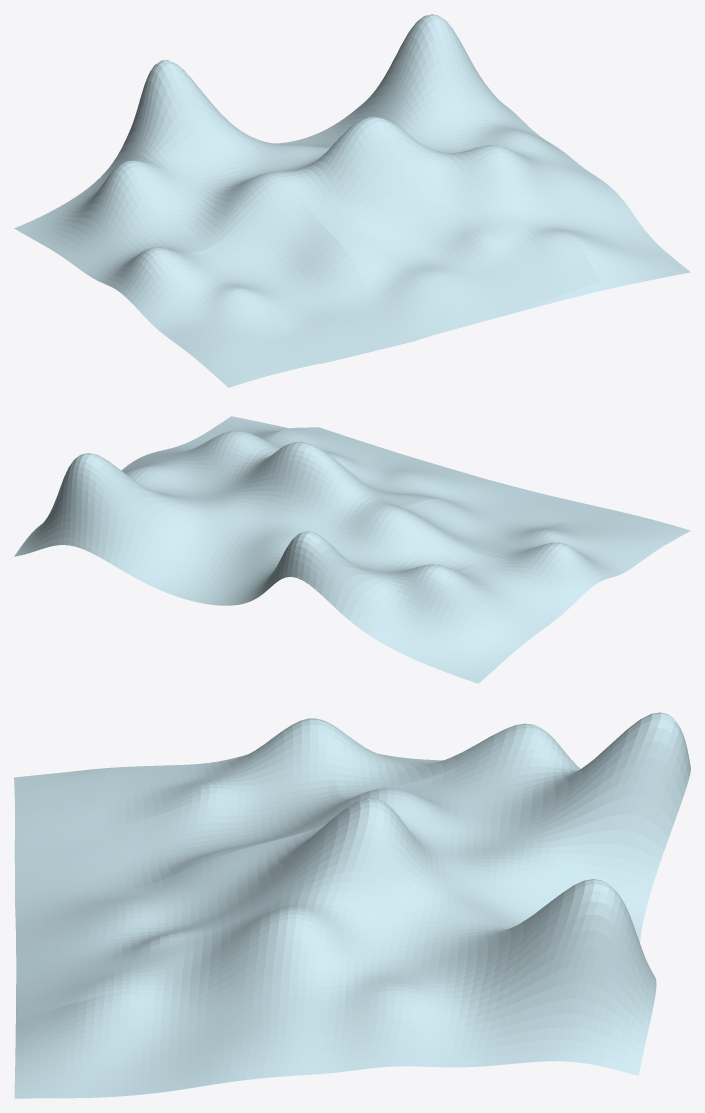
Rendered from snow_landshaft (1).fbx.
3 renders of one model, top to bottom at view 1: azimuth 30°, elevation 25°; view 2: azimuth 150°, elevation 25°; view 3: azimuth 270°, elevation 25°, orthographic. The views are drawn at different scales.
Parts seen in each view (by area): view 1: Plane; view 2: Plane; view 3: Plane.
Part boxes in pixels (box(x1,y1,x2,y2)): Plane: box(14, 14, 690, 387); Plane: box(14, 416, 690, 683); Plane: box(14, 712, 690, 1098).
Size of the model in its own units: 51642 by 12989 by 44158.
